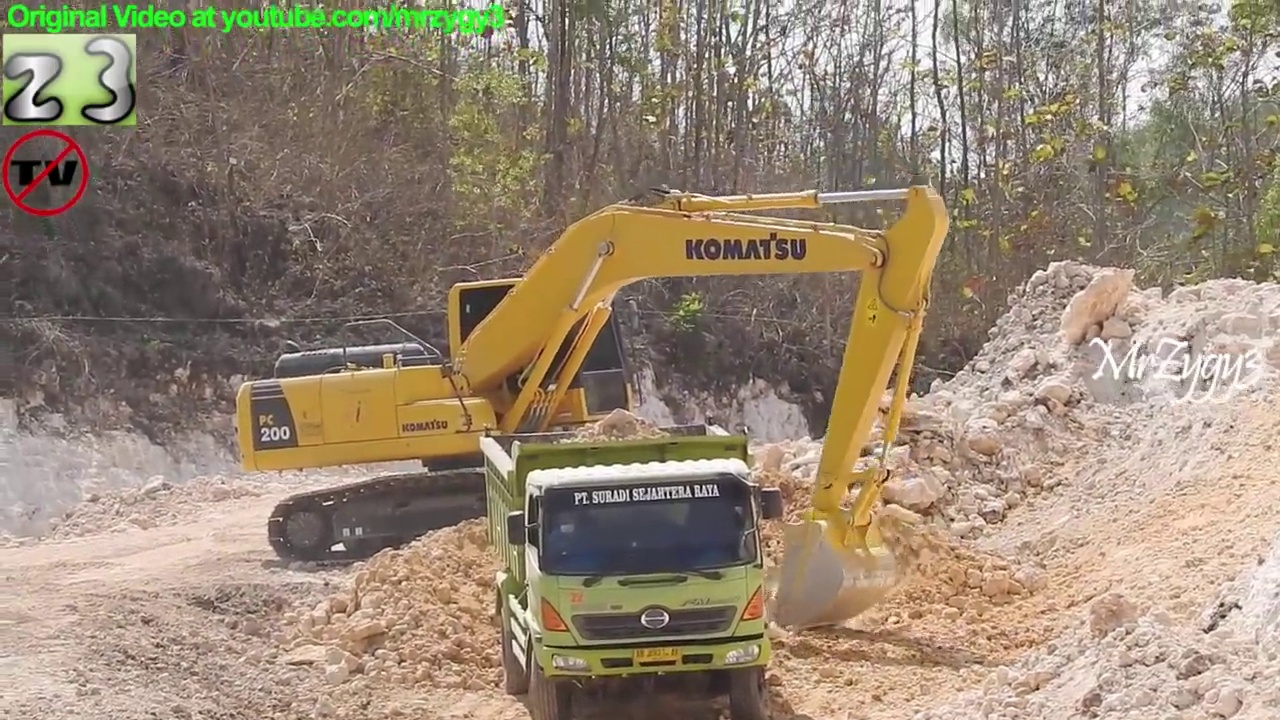excavator: (231, 174, 958, 637)
truck: (475, 414, 789, 720)
